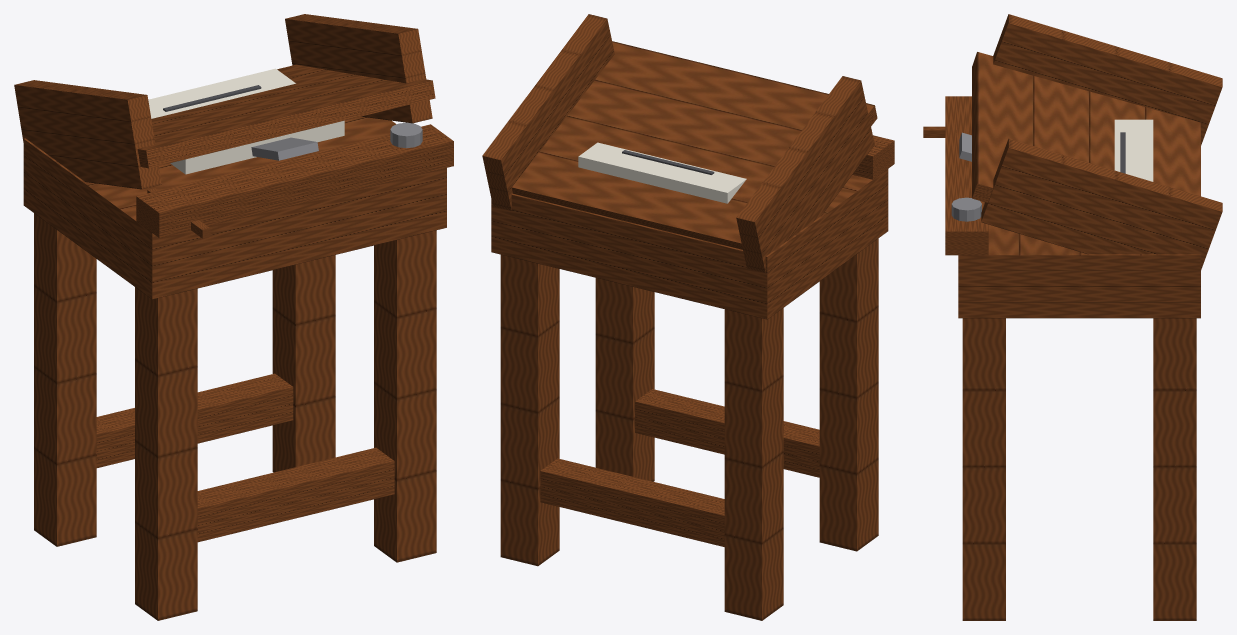
The model's file is blacksmith-forge-and-armoury-blacksmith-forge-and-armo-486137f9__37603.glb.
3 renders of one model, left to right at view 1: azimuth 30°, elevation 25°; view 2: azimuth 150°, elevation 25°; view 3: azimuth 270°, elevation 25°, orthographic. The views are drawn at different scales.
Parts seen in each view (by area): view 1: blacksmith-forge-and-armoury-ledger-desk, lid/timber, lid/iron; view 2: blacksmith-forge-and-armoury-ledger-desk, lid/timber; view 3: blacksmith-forge-and-armoury-ledger-desk, lid/timber.
Boxes of the visible parts, x1,y1,x2,y2 form: blacksmith-forge-and-armoury-ledger-desk: [14, 14, 453, 620]; lid/timber: [137, 64, 435, 168]; lid/iron: [251, 137, 318, 160]; blacksmith-forge-and-armoury-ledger-desk: [482, 14, 894, 620]; lid/timber: [512, 41, 877, 249]; blacksmith-forge-and-armoury-ledger-desk: [923, 14, 1222, 620]; lid/timber: [972, 52, 1200, 202].
Size of the model in its own units: 0.7401 by 1.21 by 0.6898.
Materials: 4 (1 with a texture image).
